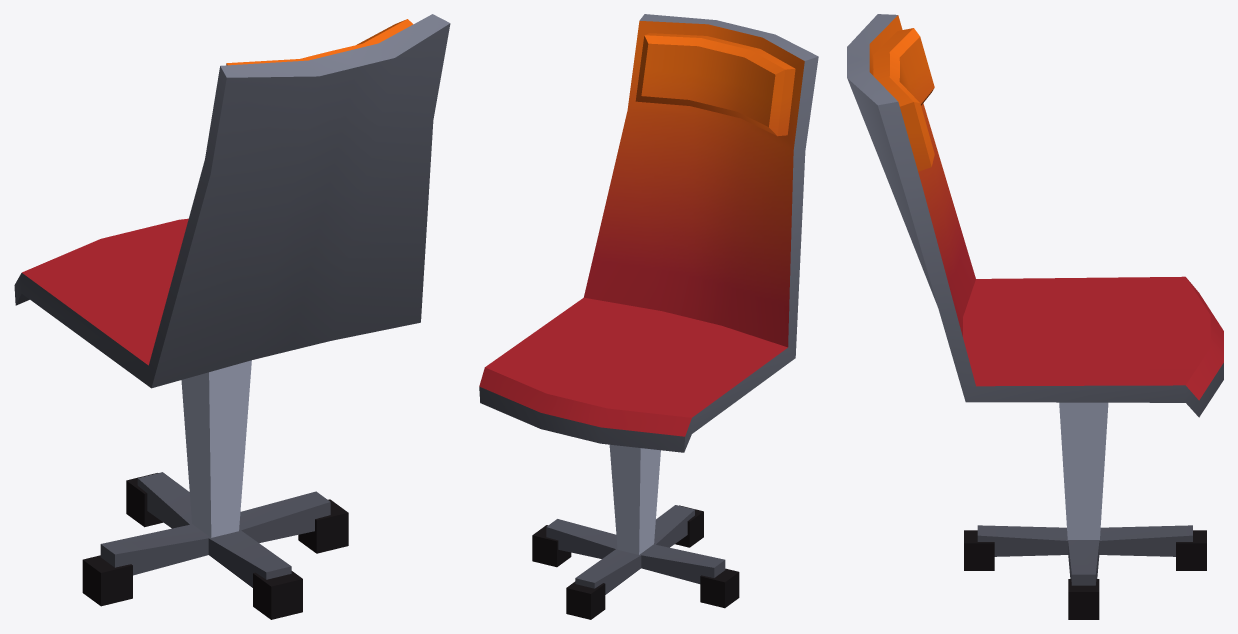
Rendered from WorkChair.fbx.
3 views of the same model, side by side, from view 1: azimuth 30°, elevation 25°; view 2: azimuth 150°, elevation 25°; view 3: azimuth 270°, elevation 25° (orthographic). The views are drawn at different scales.
Visible parts, largest first — view 1: Куб.076; view 2: Куб.076; view 3: Куб.076.
Part boxes in pixels (left/top/right/bottom): Куб.076: left=14, top=14, right=450, bottom=619; Куб.076: left=479, top=14, right=818, bottom=619; Куб.076: left=847, top=14, right=1223, bottom=619.
Bounding box in the file's own units: 59.97 × 130 × 86.76.
